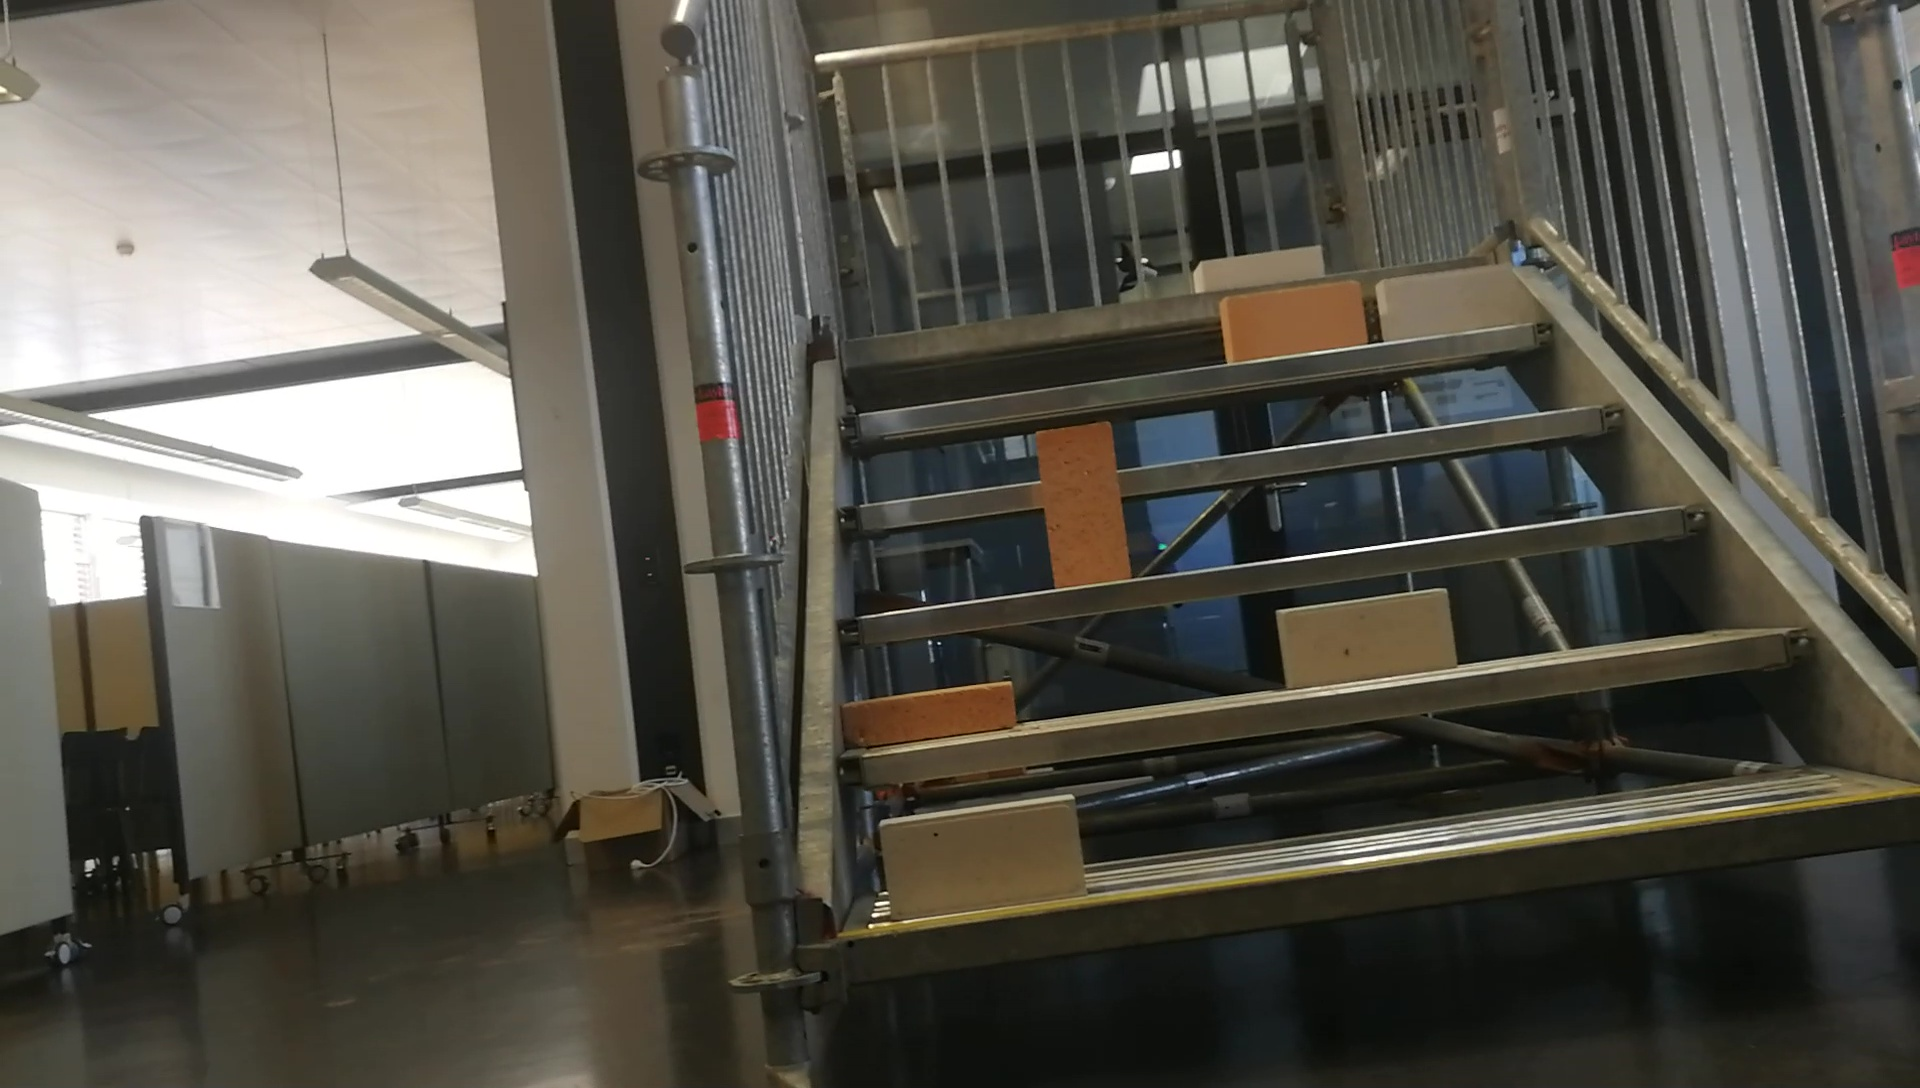brick: (882, 795, 1080, 915), (1278, 591, 1457, 692), (1038, 425, 1127, 589), (1218, 278, 1364, 360), (843, 678, 1011, 742), (1375, 266, 1513, 340), (1193, 245, 1320, 290)
edge: (849, 787, 1917, 982), (843, 630, 1812, 783), (840, 502, 1705, 641), (843, 404, 1621, 533), (843, 326, 1553, 443), (848, 262, 1495, 368)
steps: (807, 235, 1917, 1004)
